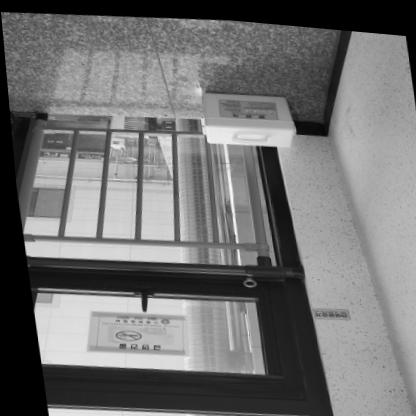DDL: (195, 81, 293, 147)
